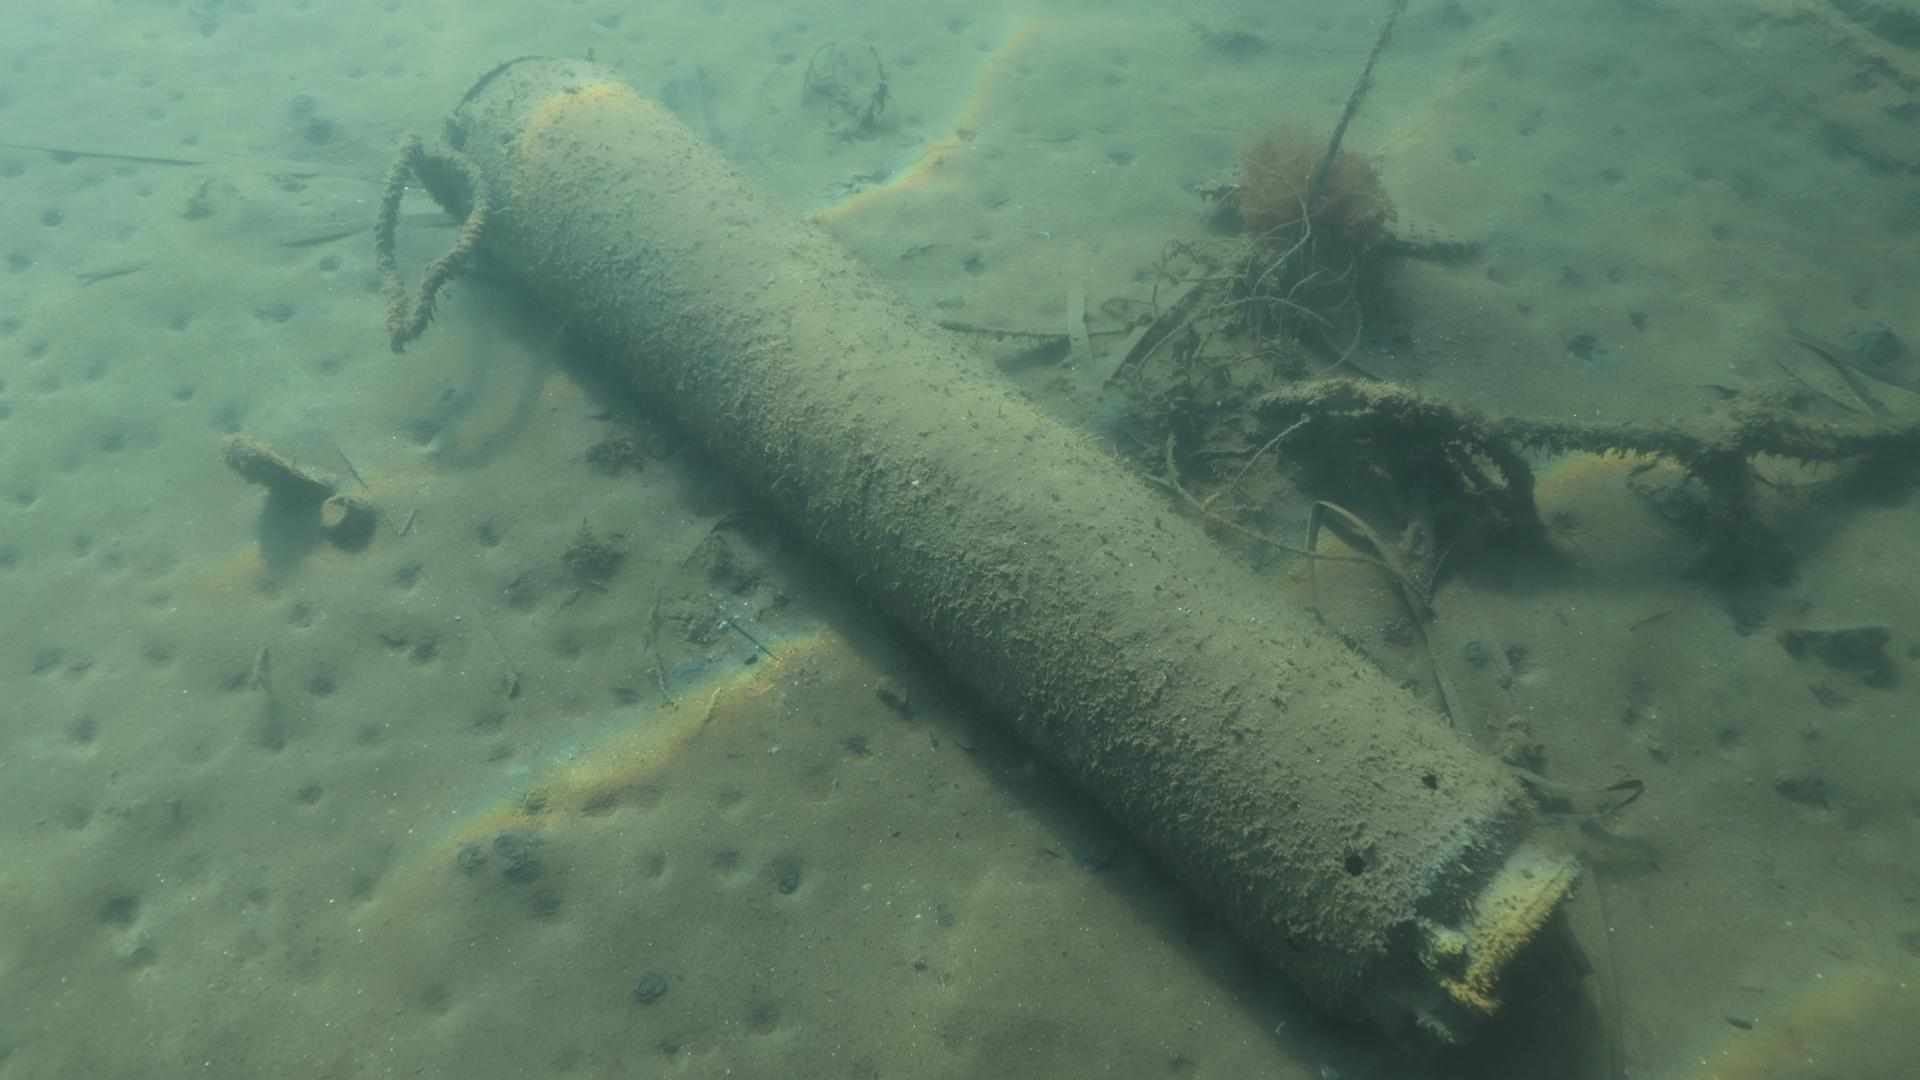eel fish trap: (431, 49, 1578, 1048)
rope: (372, 124, 487, 342)
